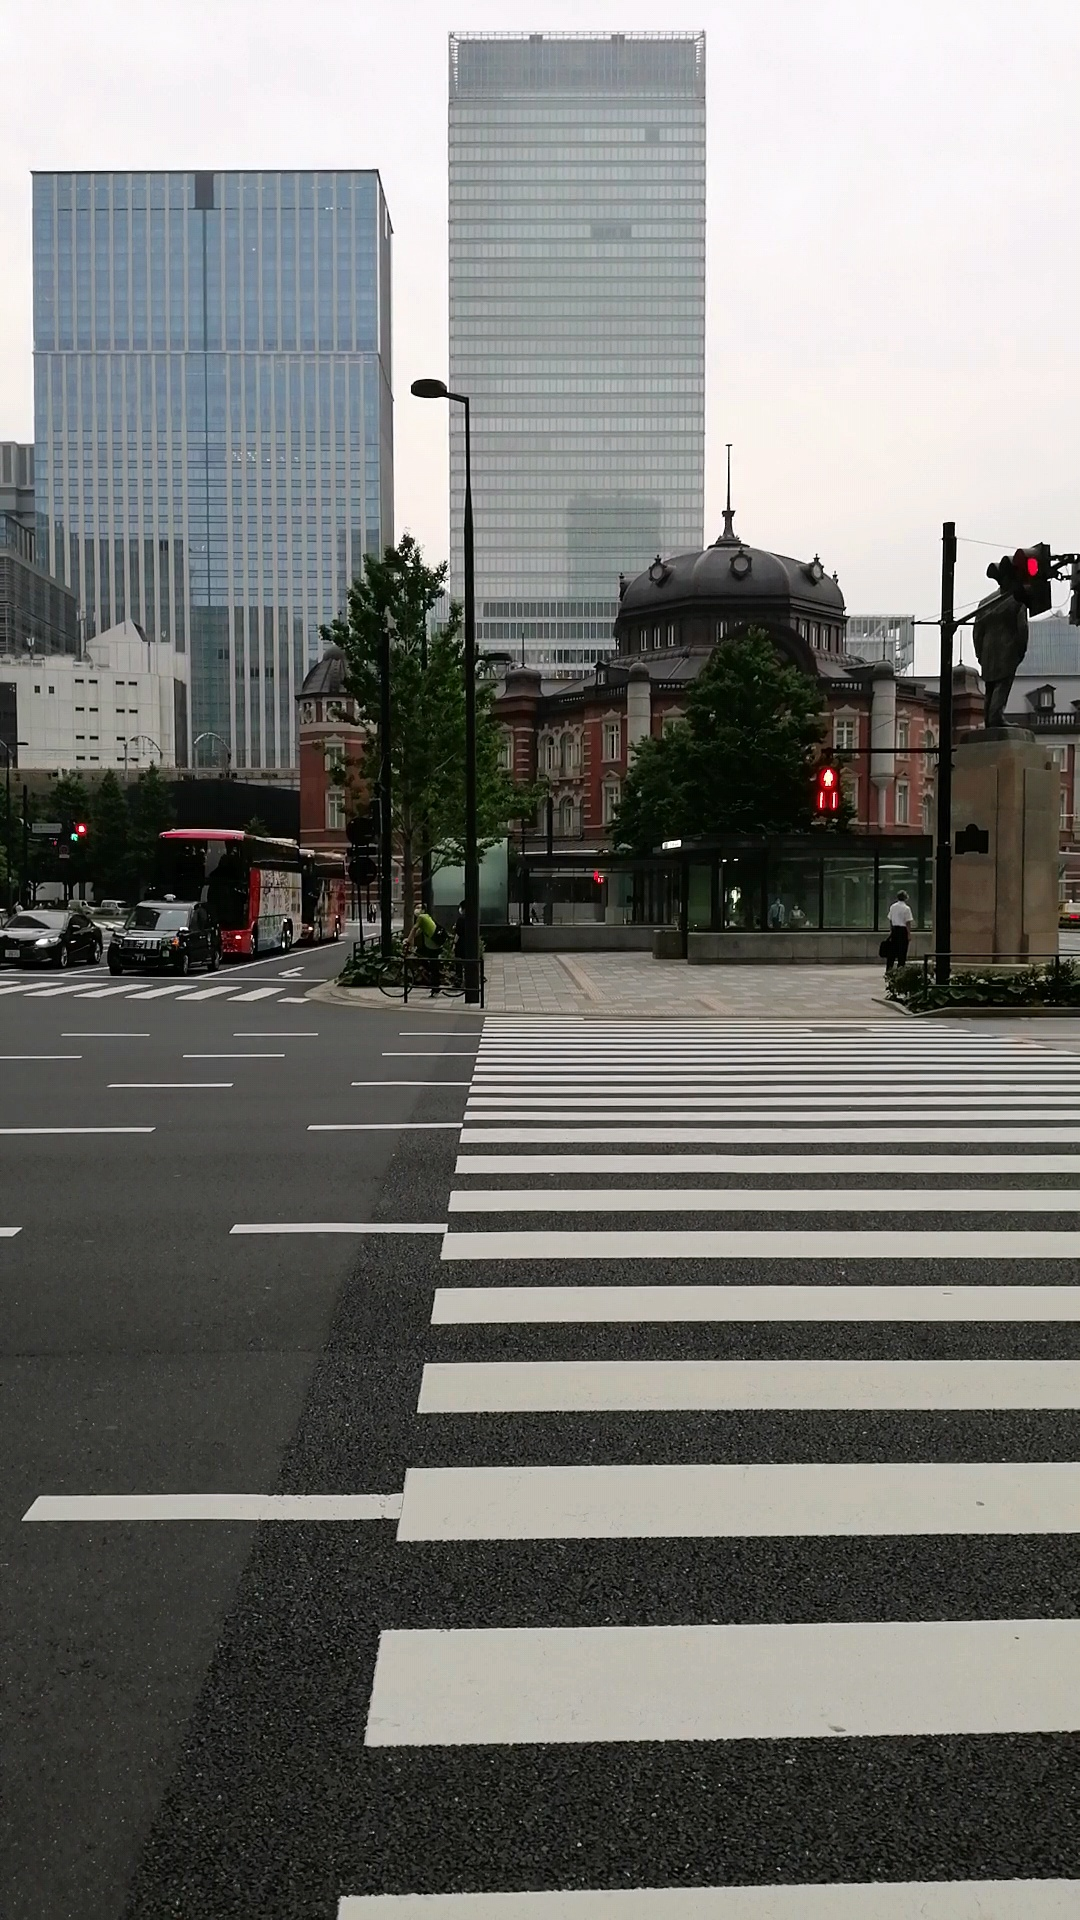red: (812, 762, 843, 818)
